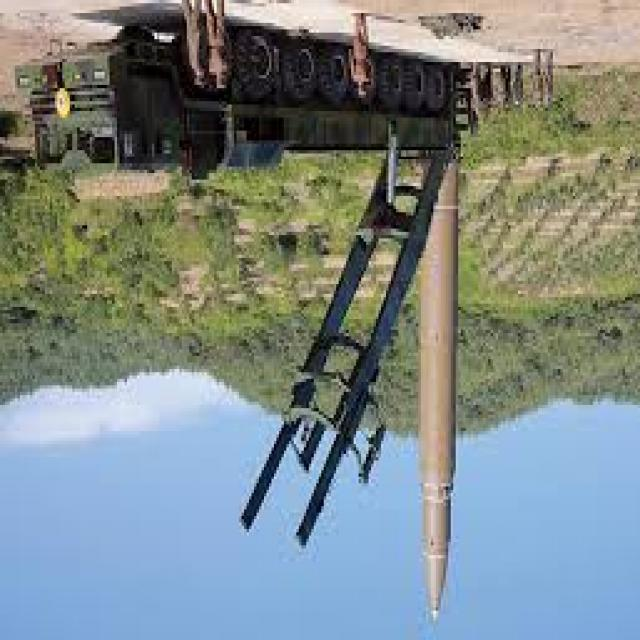missile: (417, 148, 469, 634)
